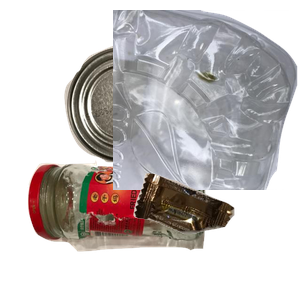glass: (25, 155, 227, 300)
metal: (62, 43, 232, 198)
plastic: (113, 10, 300, 190)
trash: (131, 171, 300, 300)
